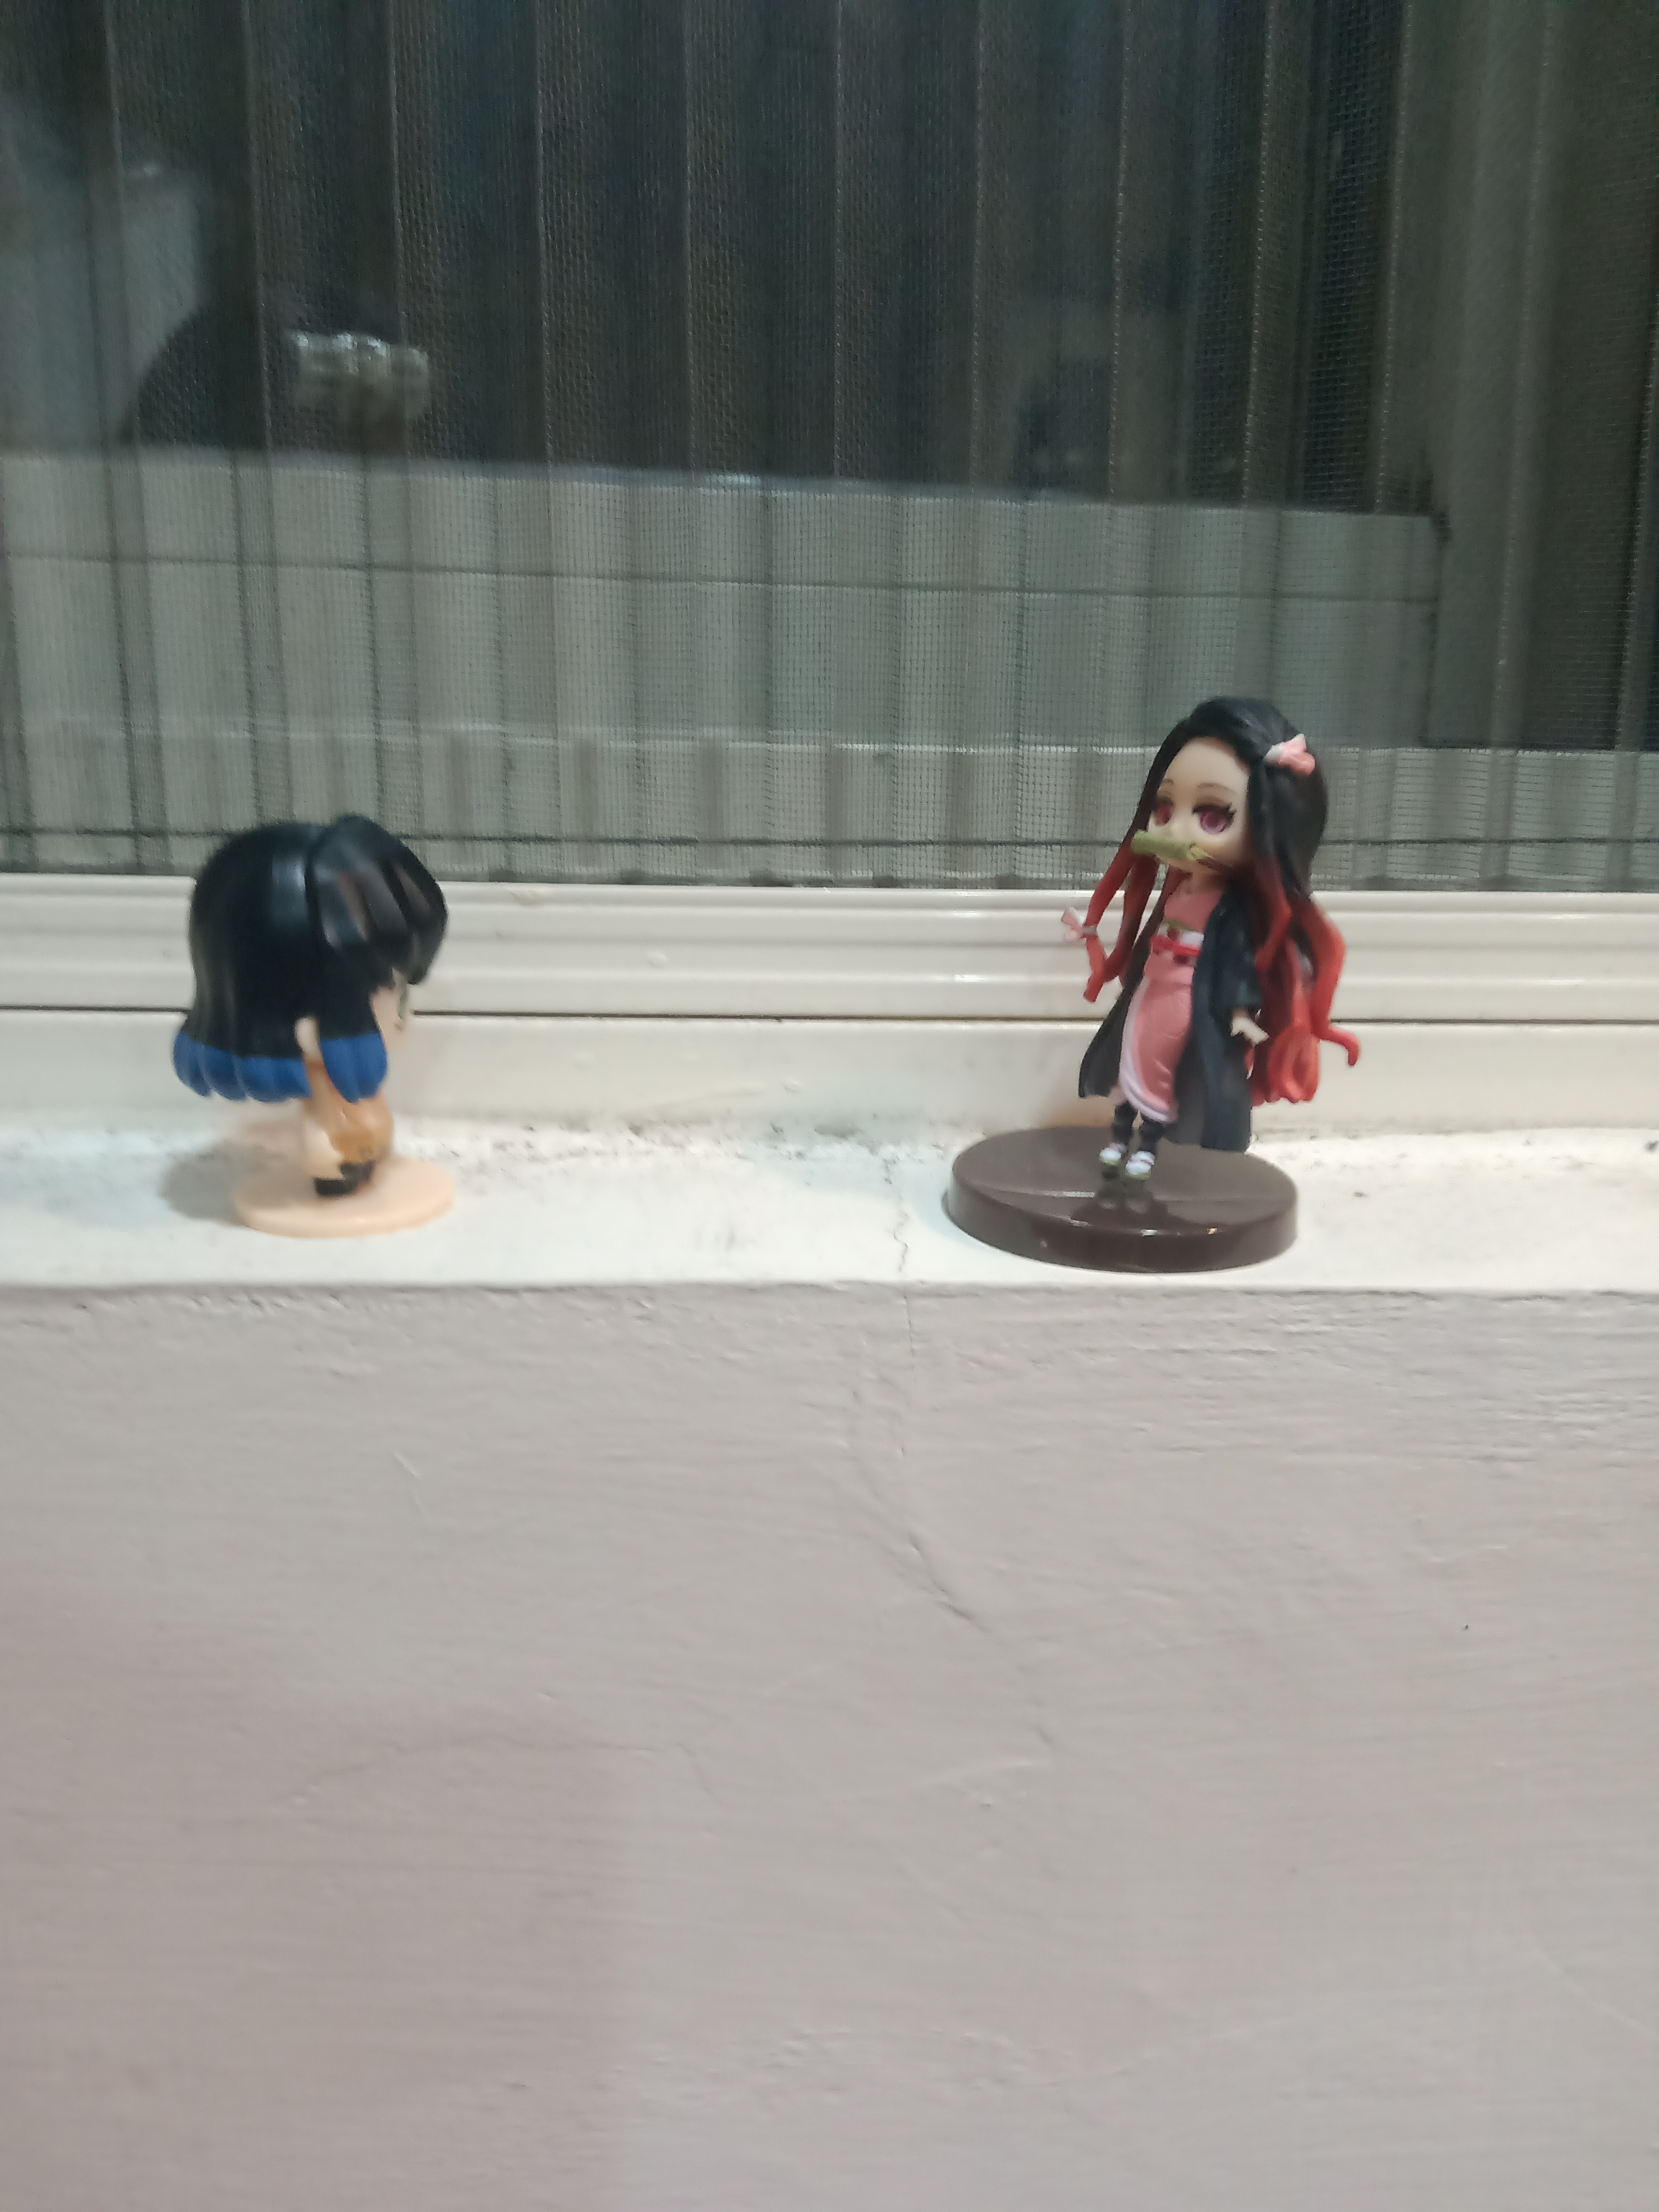Inosuke: (150, 787, 509, 1256)
Nezuko: (918, 665, 1385, 1296)
